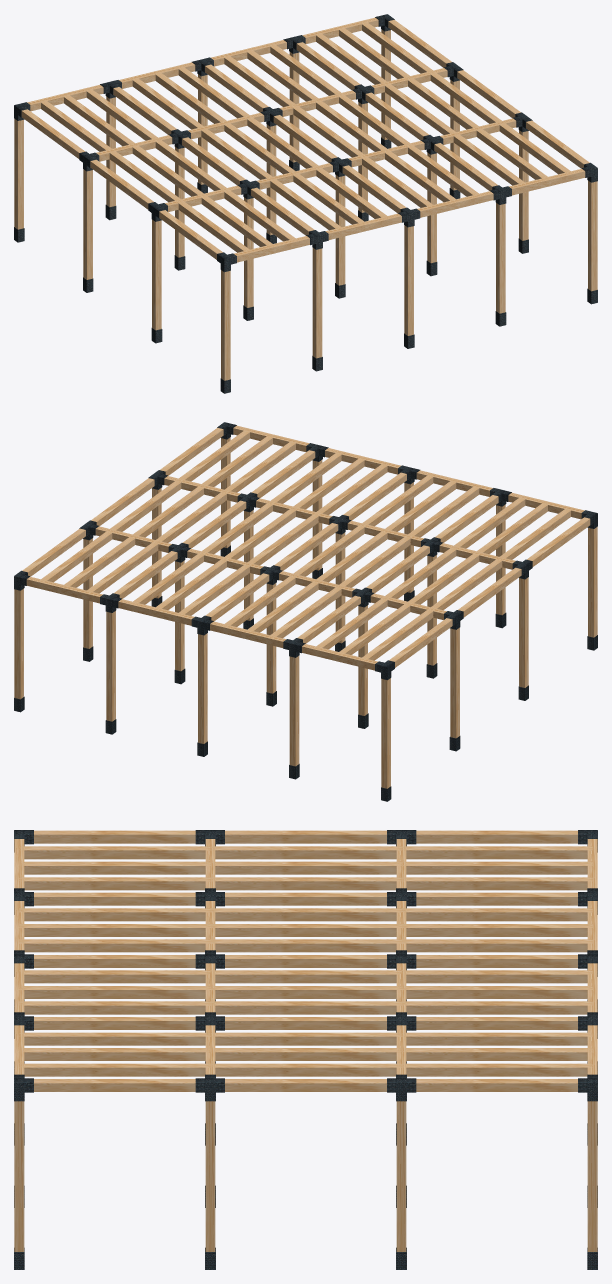
Rendered from acier.jpg.glb.
3 renders of one model, top to bottom at view 1: azimuth 30°, elevation 25°; view 2: azimuth 150°, elevation 25°; view 3: azimuth 270°, elevation 25°, orthographic. The views are drawn at different scales.
Parts seen in each view (by area): view 1: Cube.003, Cube.006, Cube.093, Cube, Cube.063, Cube.033, Cube.126, Cube.246, Cube.023, Cube.201, Cube.321, Cube.021 (+71 smaller); view 2: Cube.249, Cube.126, Cube.339, Cube.246, Cube.309, Cube, Cube.006, Cube.279, Cube.261, Cube.263, Cube.051, Cube.322 (+71 smaller); view 3: Cube.171, Cube.051, Cube.053, Cube.291, Cube.293, Cube.173, Cube.203, Cube.083, Cube.323, Cube.021, Cube.141, Cube.261 (+43 smaller).
Boxes of the visible parts, left/top/right/bottom form: Cube.003: left=312, top=248, right=322, bottom=358; Cube.006: left=152, top=219, right=161, bottom=330; Cube.093: left=588, top=180, right=597, bottom=291; Cube: left=221, top=270, right=230, bottom=380; Cube.063: left=496, top=203, right=505, bottom=313; Cube.033: left=404, top=225, right=413, bottom=335; Cube.126: left=83, top=169, right=92, bottom=279; Cube.246: left=14, top=119, right=23, bottom=229; Cube.023: left=223, top=189, right=296, bottom=241; Cube.201: left=292, top=105, right=364, bottom=157; Cube.321: left=223, top=55, right=296, bottom=106; Cube.021: left=177, top=200, right=251, bottom=252; Cube.249: left=289, top=656, right=299, bottom=766; Cube.126: left=450, top=627, right=459, bottom=738; Cube.339: left=14, top=588, right=23, bottom=699; Cube.246: left=381, top=678, right=390, bottom=788; Cube.309: left=106, top=611, right=115, bottom=721; Cube: left=588, top=527, right=597, bottom=637; Cube.006: left=519, top=577, right=528, bottom=687; Cube.279: left=198, top=633, right=207, bottom=743; Cube.261: left=360, top=608, right=434, bottom=660; Cube.263: left=315, top=597, right=388, bottom=649; Cube.051: left=407, top=486, right=480, bottom=537; Cube.322: left=154, top=558, right=228, bottom=610; Cube.171: left=210, top=908, right=401, bottom=921; Cube.051: left=19, top=908, right=210, bottom=921; Cube.053: left=19, top=939, right=210, bottom=952; Cube.291: left=401, top=908, right=592, bottom=921; Cube.293: left=401, top=939, right=592, bottom=952; Cube.173: left=210, top=939, right=401, bottom=952; Cube.203: left=210, top=1001, right=401, bottom=1014; Cube.083: left=19, top=1001, right=210, bottom=1014; Cube.323: left=401, top=1001, right=592, bottom=1014; Cube.021: left=19, top=846, right=210, bottom=859; Cube.141: left=211, top=846, right=401, bottom=859; Cube.261: left=401, top=846, right=592, bottom=859.
Size of the model in its own units: 24.44 by 8.42 by 23.84.
2 materials, 2 textured.
